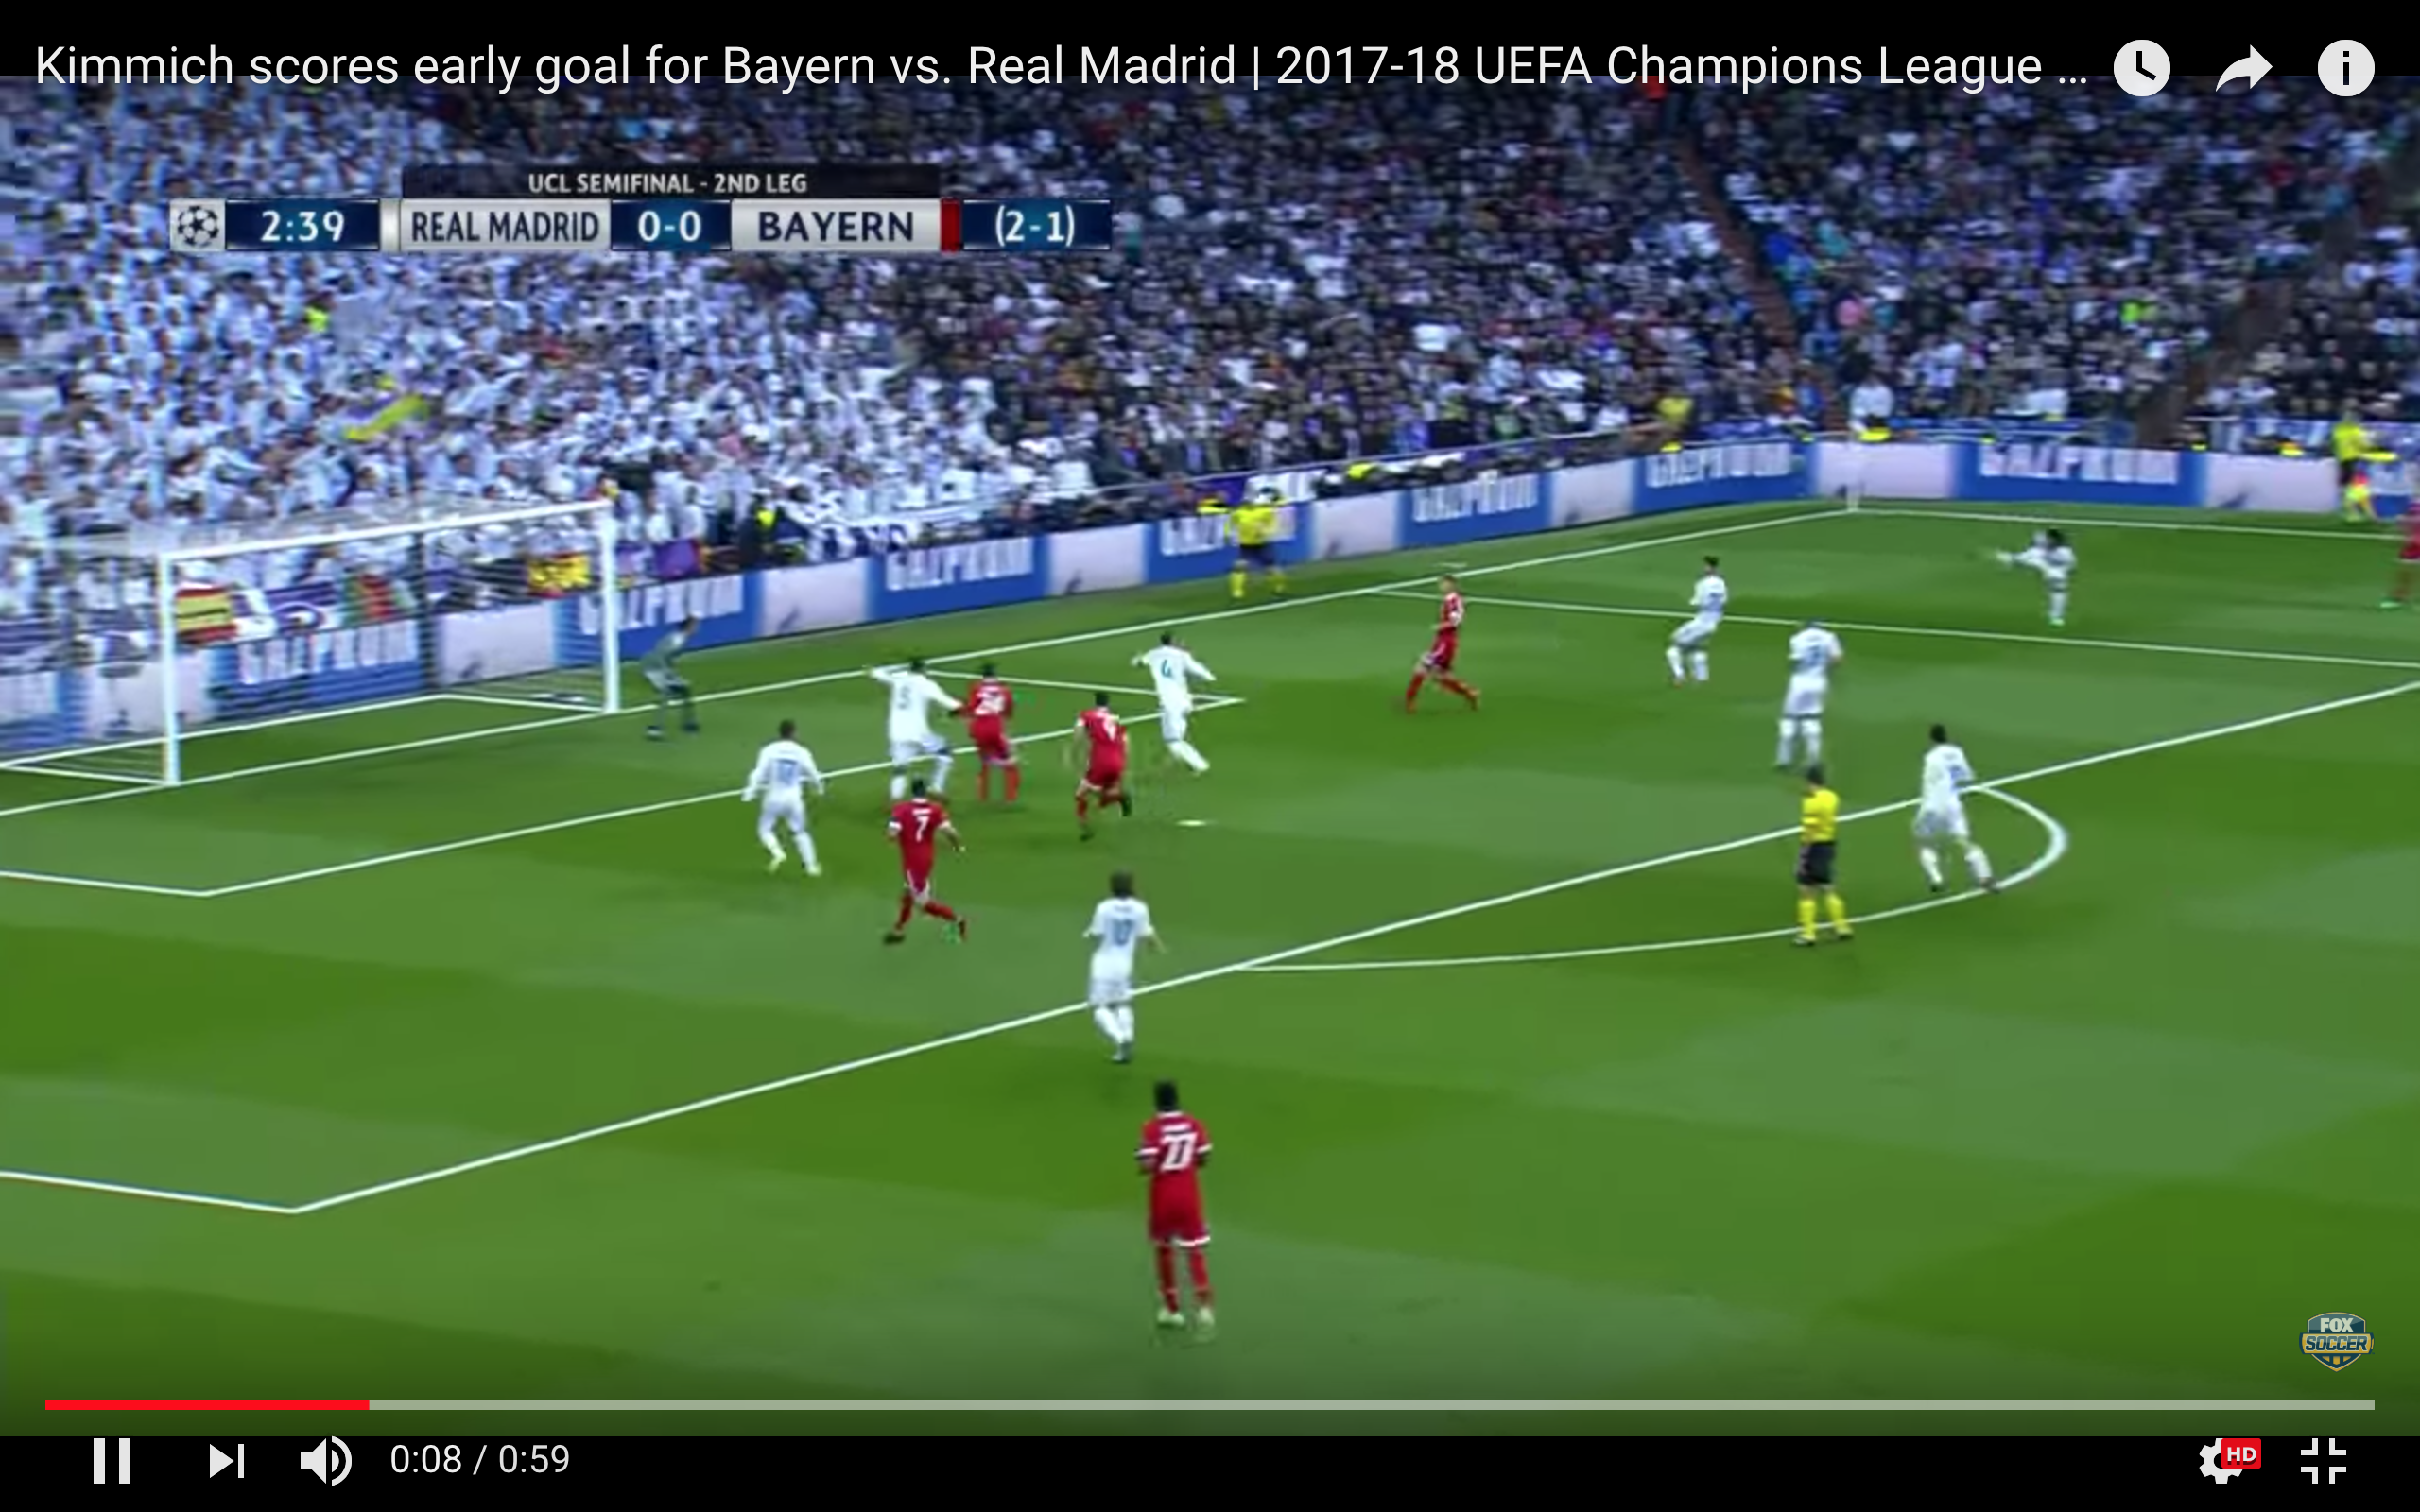referee: (1782, 760, 1861, 956), (1216, 498, 1301, 607)
soccer player: (1124, 1074, 1228, 1343), (1066, 865, 1169, 1065), (872, 774, 976, 958), (1908, 715, 2000, 905), (733, 717, 836, 883), (1127, 623, 1225, 785), (847, 653, 962, 784), (1961, 521, 2089, 635), (1765, 611, 1853, 771), (1055, 690, 1142, 849), (1400, 575, 1490, 722), (628, 606, 714, 747), (1662, 550, 1743, 691), (956, 661, 1026, 811)
